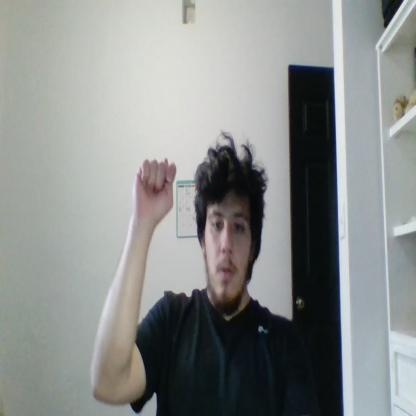T: (133, 155, 177, 225)
